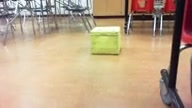cube: (91, 26, 120, 54)
